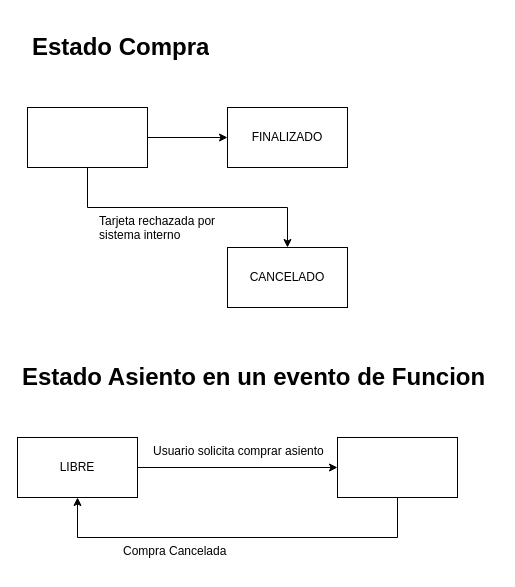
This 515x587 diagram has some shape labels left out. Here are the shapes that lost their labels. From the top down, the centre of each, then its label:
At [87,137]: "EN CURSO".
At [397,467]: "OCUPADO".
